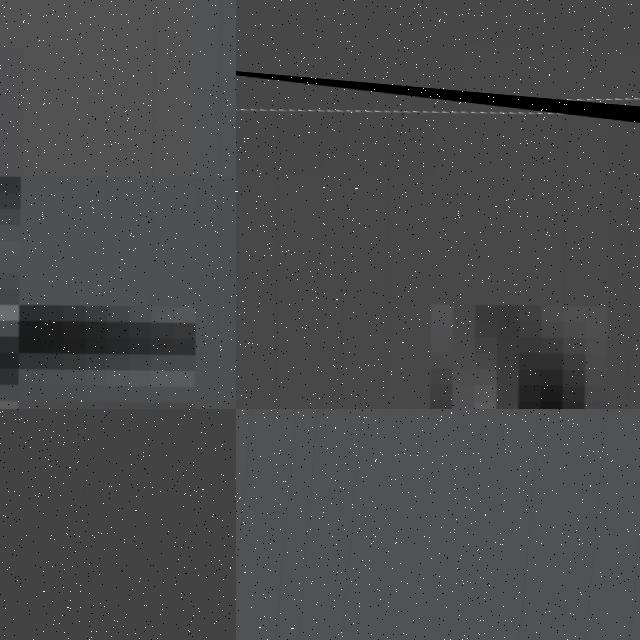drone: (236, 59, 640, 409), (0, 0, 236, 409)
